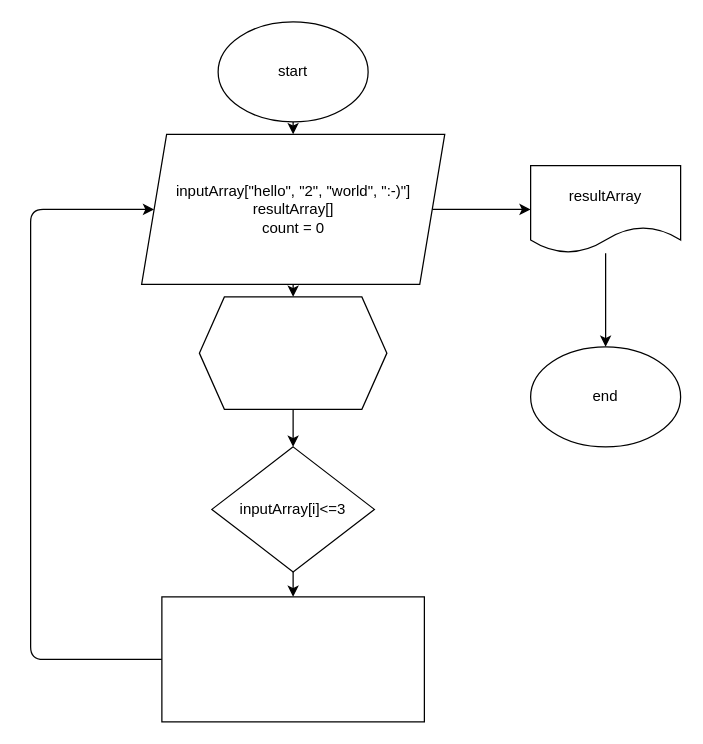
This 703x744 diagram has some shape labels left out. The shapes that lost their labels are listed below. From the top down, each one's centre as x and y in pixels, then its label:
point 292,352: i = 0, i<inputArray, i++
point 292,659: resultArray[count]=inputArray[i] count++
